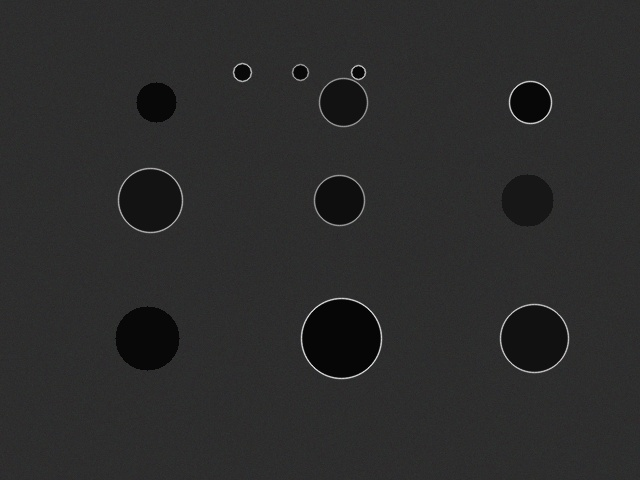hole: (301, 298, 381, 378), (500, 304, 568, 372), (118, 168, 182, 232), (115, 306, 179, 370), (501, 174, 553, 226), (314, 175, 364, 225), (319, 78, 367, 126), (509, 81, 551, 123), (136, 82, 176, 122), (233, 63, 251, 81), (292, 64, 308, 80), (351, 65, 365, 79)
